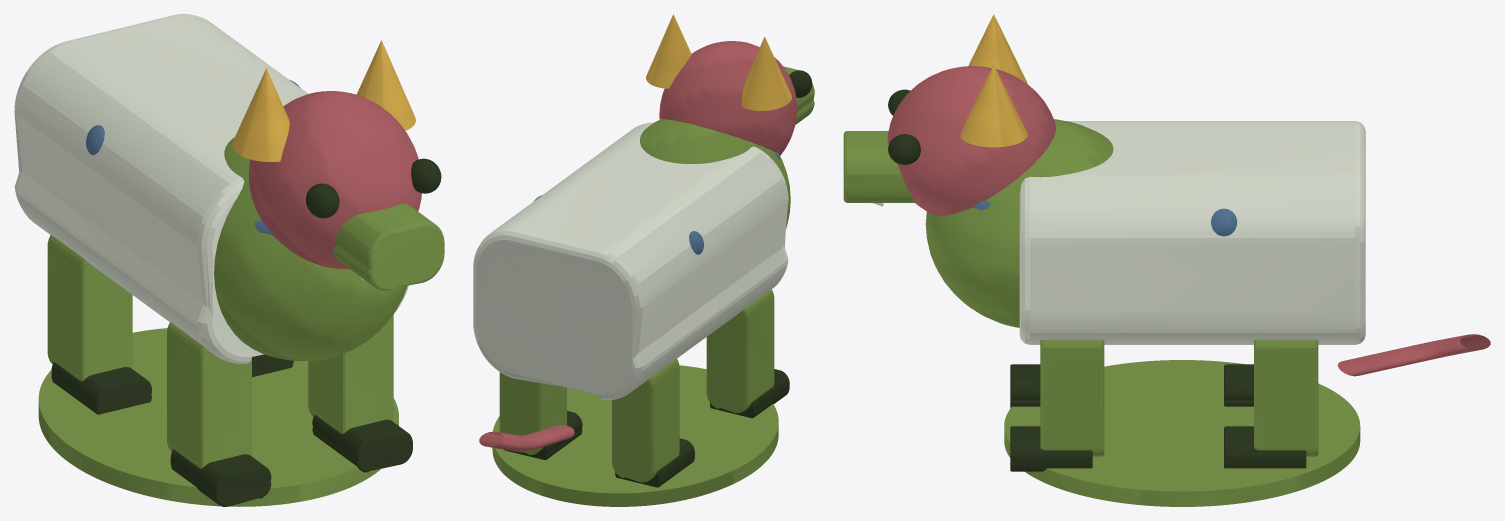
File: 1302_爬行动物图鉴_墨西哥鼹蜥.glb
3 renders of one model, left to right at view 1: azimuth 30°, elevation 25°; view 2: azimuth 150°, elevation 25°; view 3: azimuth 270°, elevation 25°, orthographic. The views are drawn at different scales.
Visible parts, largest first — view 1: card_1302; view 2: card_1302; view 3: card_1302.
Part boxes in pixels (left/top/right/bottom): card_1302: left=14, top=14, right=444, bottom=506; card_1302: left=473, top=14, right=814, bottom=506; card_1302: left=843, top=14, right=1490, bottom=506.
Size of the model in its own units: 0.7019 by 1 by 1.46.
